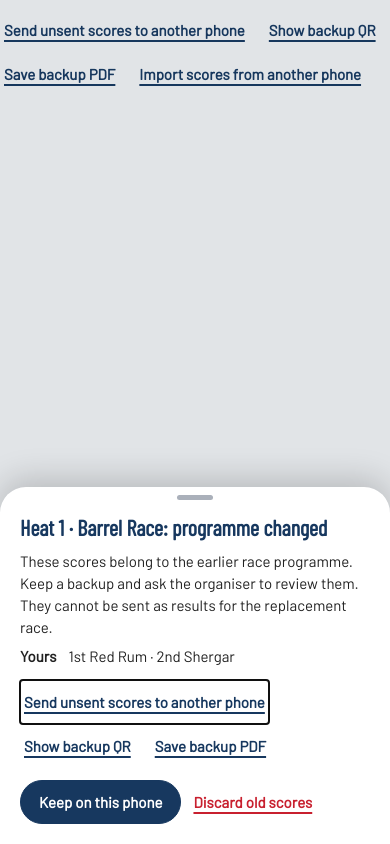
it: ScoreOutboxPanel › when the programme changed › can close with Keep on this phone and reopen the retained scores
Click the button "Keep on this phone" at [101, 802], box [20,780,182,824]
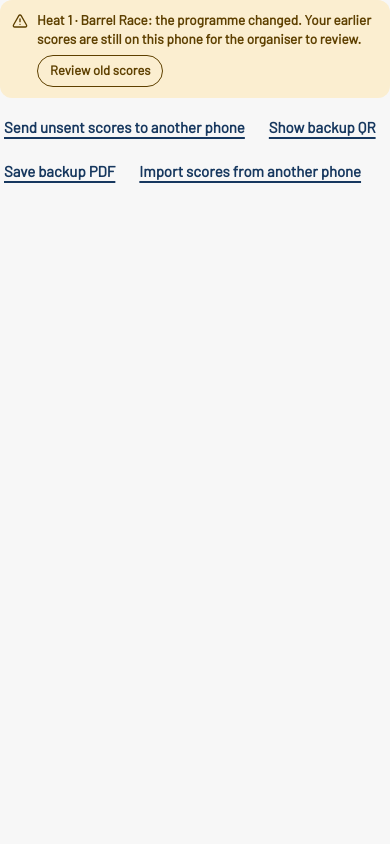
Expected: the dialog is gone
Click the button "Review old scores" at [100, 71], box [37,55,164,87]
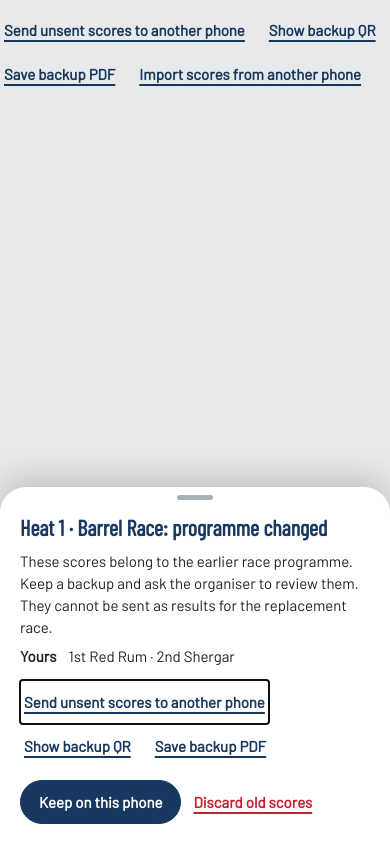
Expected: the text "1st Red Rum · 2nd Shergar" is shown, [68,647,235,665]
